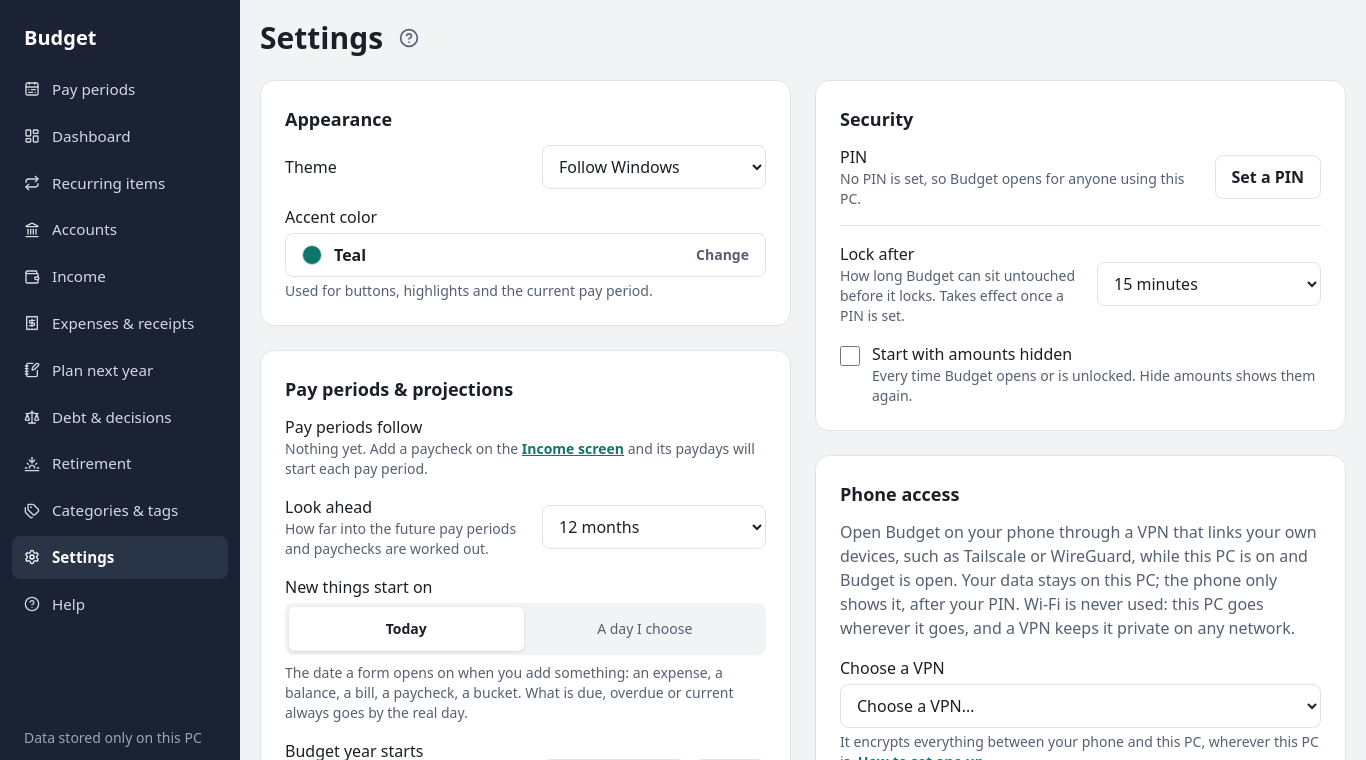
Test: phone access › shows what went wrong when it can't be turned on
The image size is (1366, 760).
Select "Tailscale · 100.101.102.103" in the dropdown labelled "Choose a VPN" at x=1080, y=706, box left=840, top=684, right=1321, bottom=728
(page scrolled)
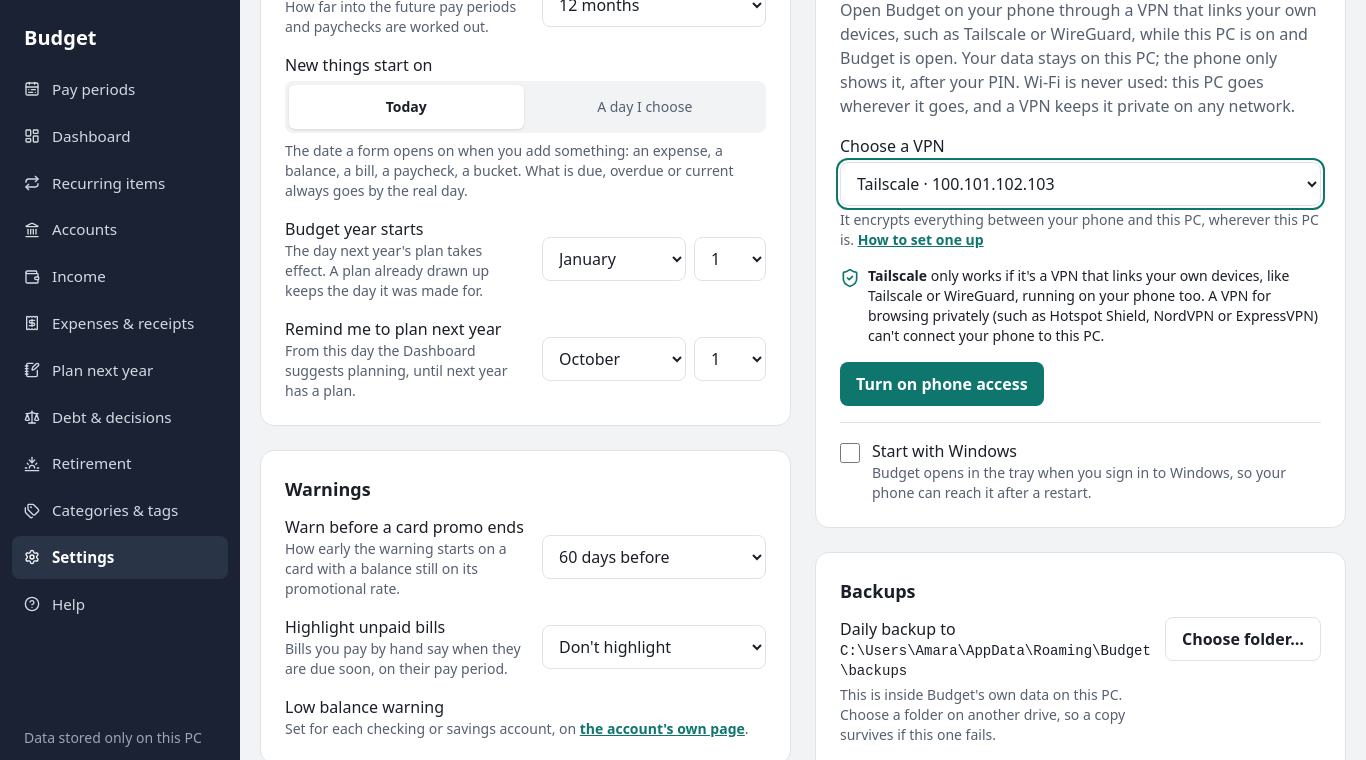
Click the button "Turn on phone access".
click(942, 384)  # box left=840, top=362, right=1044, bottom=406
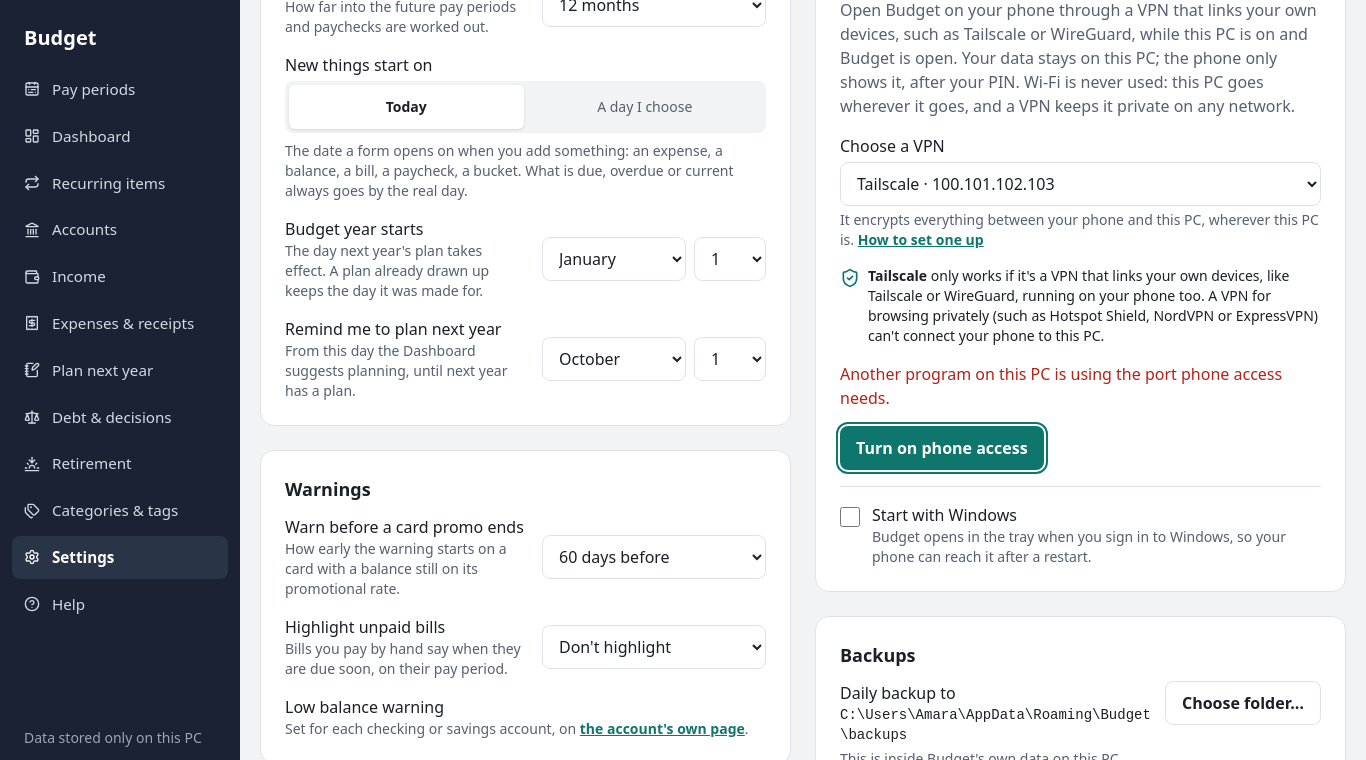
Check: the message shows "Another program on this PC is using the port", box left=840, top=363, right=1282, bottom=409
